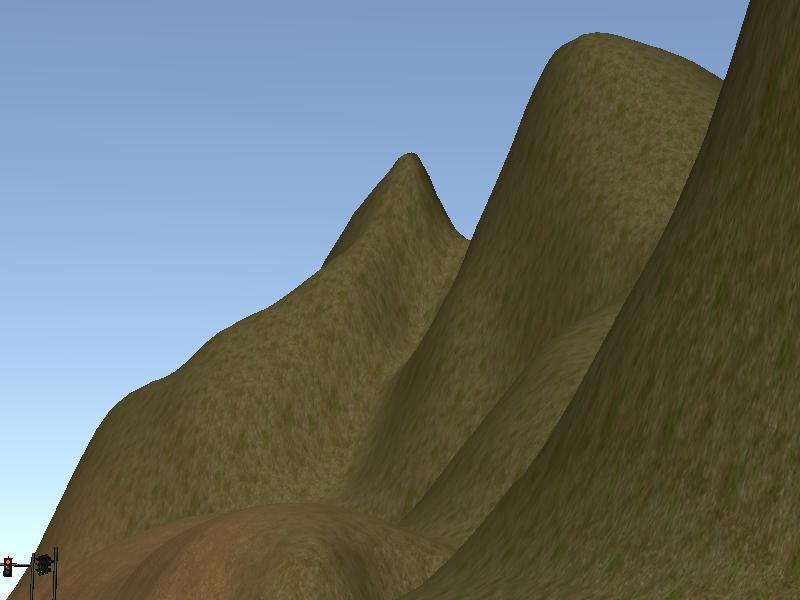Red: (2, 555, 12, 579)
